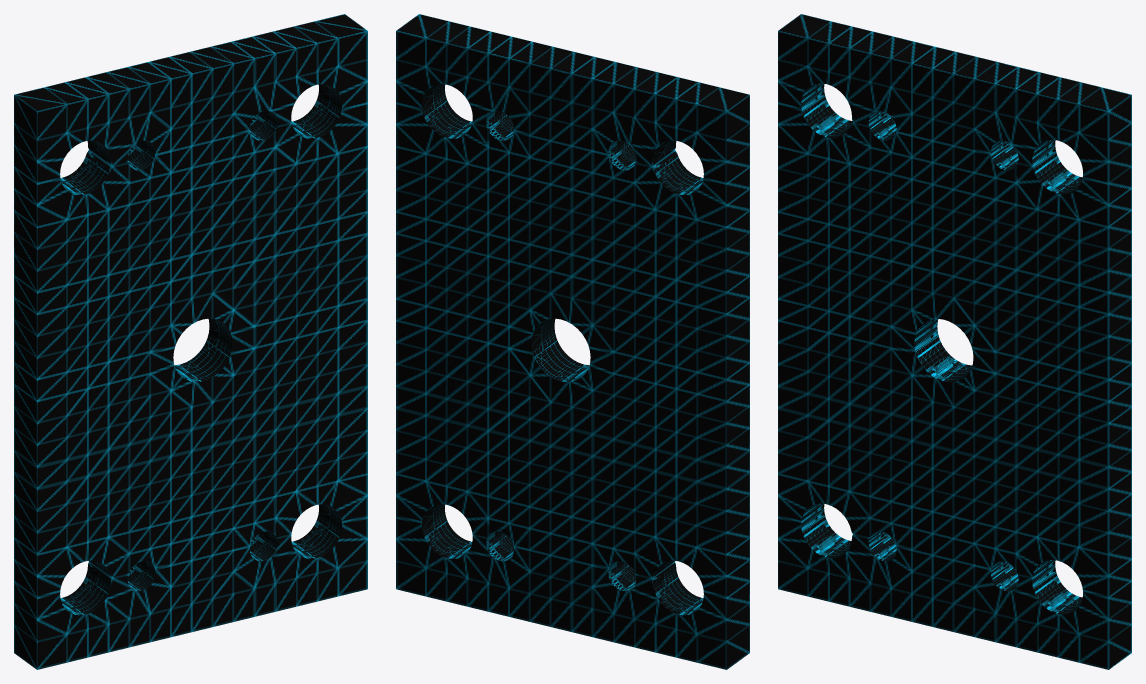
File: Mold1-Bottom clamping plate-M.glb
The picture shows the model from 3 angles, left to right: view 1: azimuth 30°, elevation 25°; view 2: azimuth 150°, elevation 25°; view 3: azimuth 330°, elevation 25°; orthographic projection.
Parts seen in each view (by area): view 1: semelle inf.001; view 2: semelle inf.001; view 3: semelle inf.001.
Part boxes in pixels (x1=…): semelle inf.001: x1=14, y1=14, x2=367, y2=669; semelle inf.001: x1=396, y1=14, x2=749, y2=669; semelle inf.001: x1=778, y1=14, x2=1131, y2=669.
Bounding box in the file's own units: 5.86 × 9.47 × 0.7065.
Materials: 1 (1 with a texture image).
